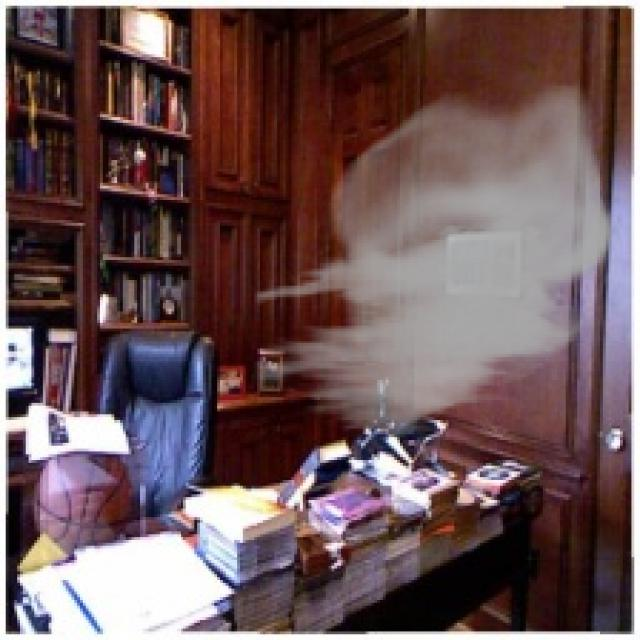smoke: (255, 83, 614, 440)
